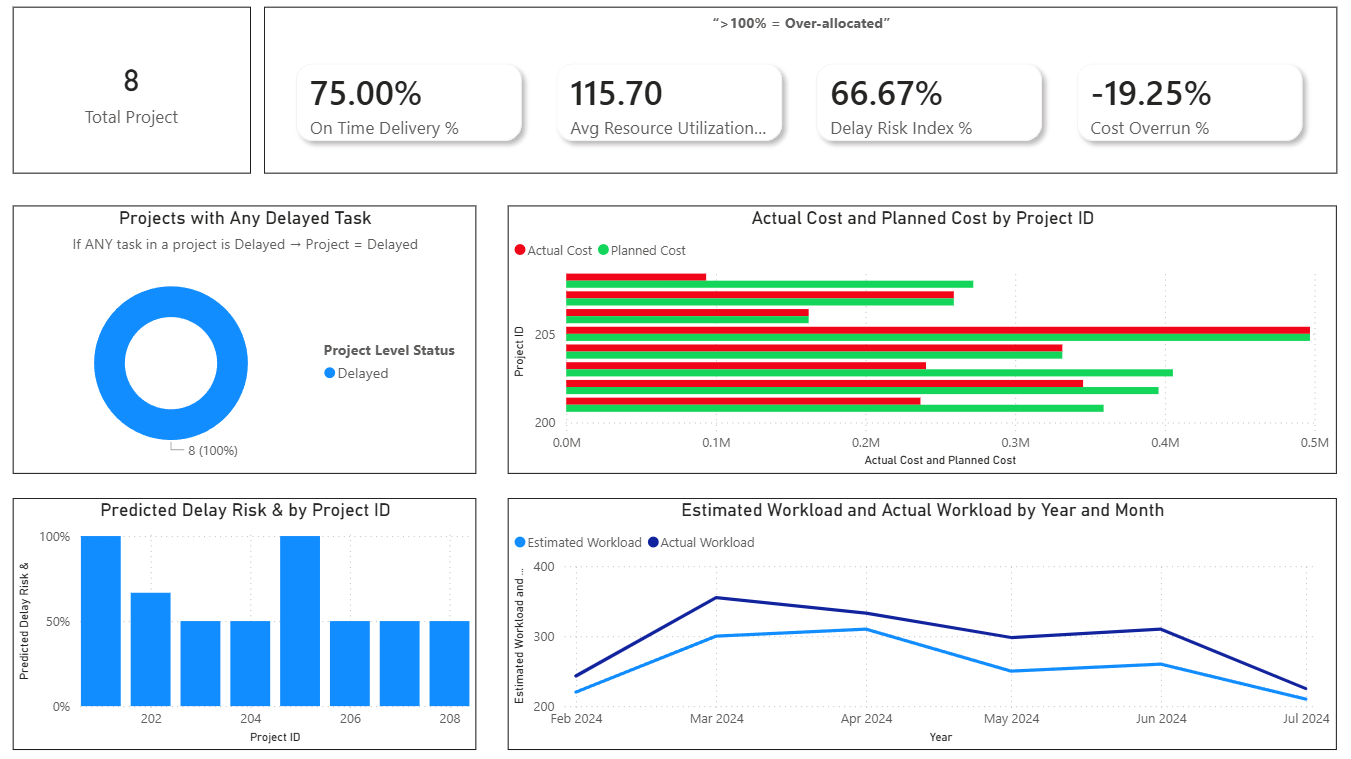

The dashboard page shown, as its layout file describes it:
{"tool":"powerbi","page":{"name":"Executive Overview","canvas":[1280,720],"ordinal":0},"visuals":[{"type":"card","fields":{"Values":["delays.Total Project"]},"box":[17.7,17.7,221.5,155.1],"z":0},{"type":"cardVisual","fields":{"Data":["delays.On Time Delivery %","delays.Avg Resource Utilization %","delays.Predicted Delay Risk &","delays.Cost Overrun %"]},"box":[251,17.7,998.3,155.1],"z":1000},{"type":"donutChart","title":"Projects with Any Delayed Task","fields":{"Y":["Count(Projects.project_id)"],"Category":["Projects.Project Level Status"]},"box":[17.7,202.3,431.2,249.6],"z":2000},{"type":"clusteredBarChart","fields":{"Category":["tasks.project_id"],"Y":["delays.Actual Cost","delays.Planned Cost"]},"box":[478.5,202.3,770.8,249.6],"z":3000},{"type":"columnChart","fields":{"Category":["tasks.project_id"],"Y":["delays.Predicted Delay Risk &"]},"box":[17.7,474,431.2,234.8],"z":4000},{"type":"lineChart","fields":{"Y":["delays.Estimated Workload","delays.Actual Workload"],"Category":["tasks.deadline.Variation.Date Hierarchy.Year","tasks.deadline.Variation.Date Hierarchy.Month"]},"box":[478.5,474,770.8,234.8],"z":5000}]}

Visuals, with their boxes in screenshot pixels (x1, y1, x2, y2), scaled from the page's 1280x720 canvas onto the 1351x759 screenshot:
card - delays.Total Project: (x1=19, y1=19, x2=252, y2=182)
cardVisual - delays.On Time Delivery % x delays.Avg Resource Utilization %: (x1=265, y1=19, x2=1319, y2=182)
"Projects with Any Delayed Task" donutChart: (x1=19, y1=213, x2=474, y2=476)
clusteredBarChart - tasks.project_id x delays.Actual Cost: (x1=505, y1=213, x2=1319, y2=476)
columnChart - tasks.project_id x delays.Predicted Delay Risk &: (x1=19, y1=500, x2=474, y2=747)
lineChart - delays.Estimated Workload x delays.Actual Workload: (x1=505, y1=500, x2=1319, y2=747)
